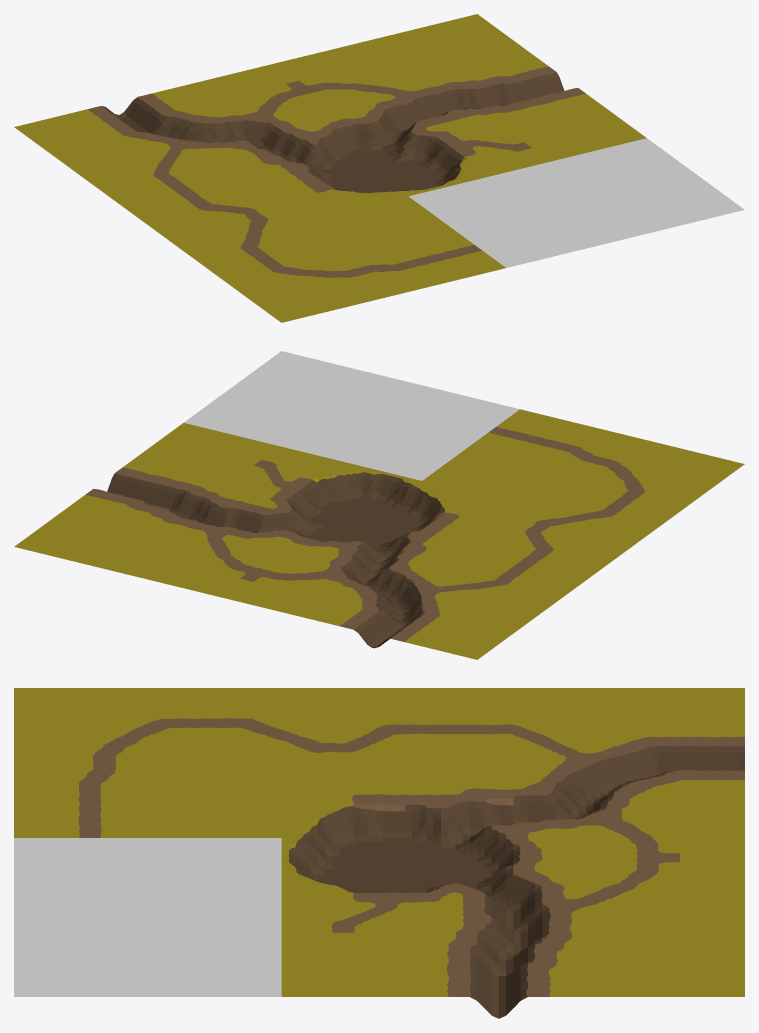
Rendered from Forest_Lvl_1C.fbx.
3 views of the same model, one above another, from view 1: azimuth 30°, elevation 25°; view 2: azimuth 150°, elevation 25°; view 3: azimuth 270°, elevation 25° (orthographic). The views are drawn at different scales.
Visible parts, largest first — view 1: 0_main; view 2: 0_main; view 3: 0_main.
Boxes of the visible parts, left/top/right/bottom form: 0_main: left=14, top=14, right=744, bottom=322; 0_main: left=14, top=351, right=744, bottom=659; 0_main: left=14, top=688, right=744, bottom=1018.
Size of the model in its own units: 200 by 6.75 by 200.
